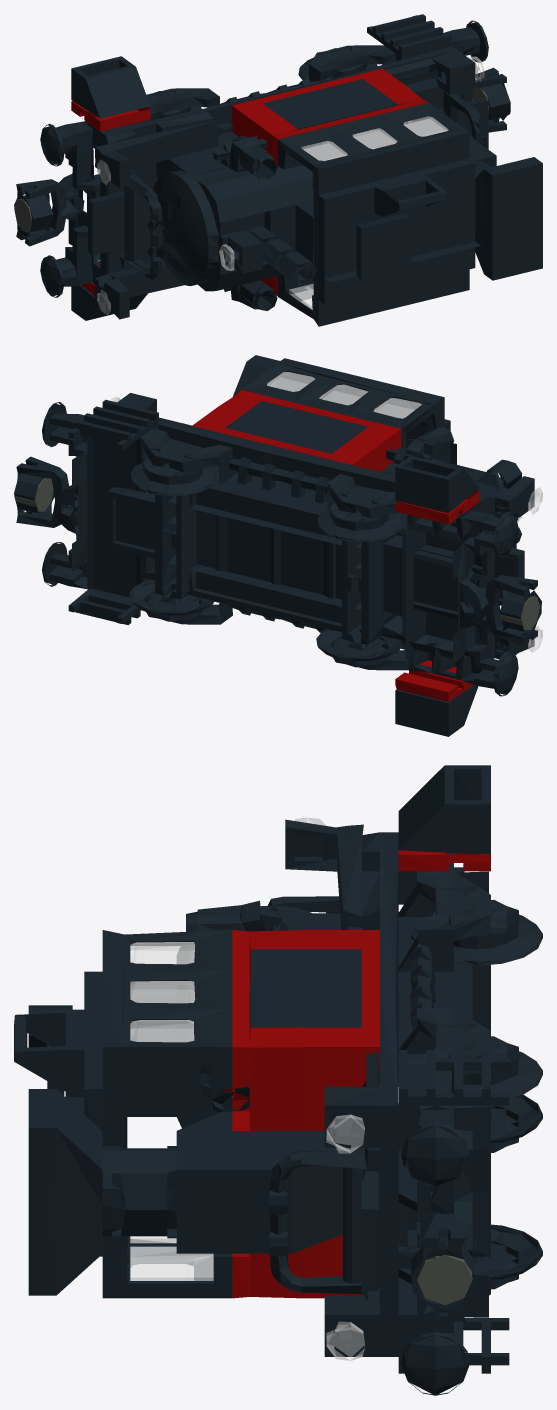
Rendered from small-steam-locomotive.glb.
3 views of the same model, one above another, from view 1: azimuth 30°, elevation 25°; view 2: azimuth 150°, elevation 25°; view 3: azimuth 270°, elevation 25° (orthographic). The views are drawn at different scales.
Bounding box in the file's own units: 152 × 73.6 × 91.56.
